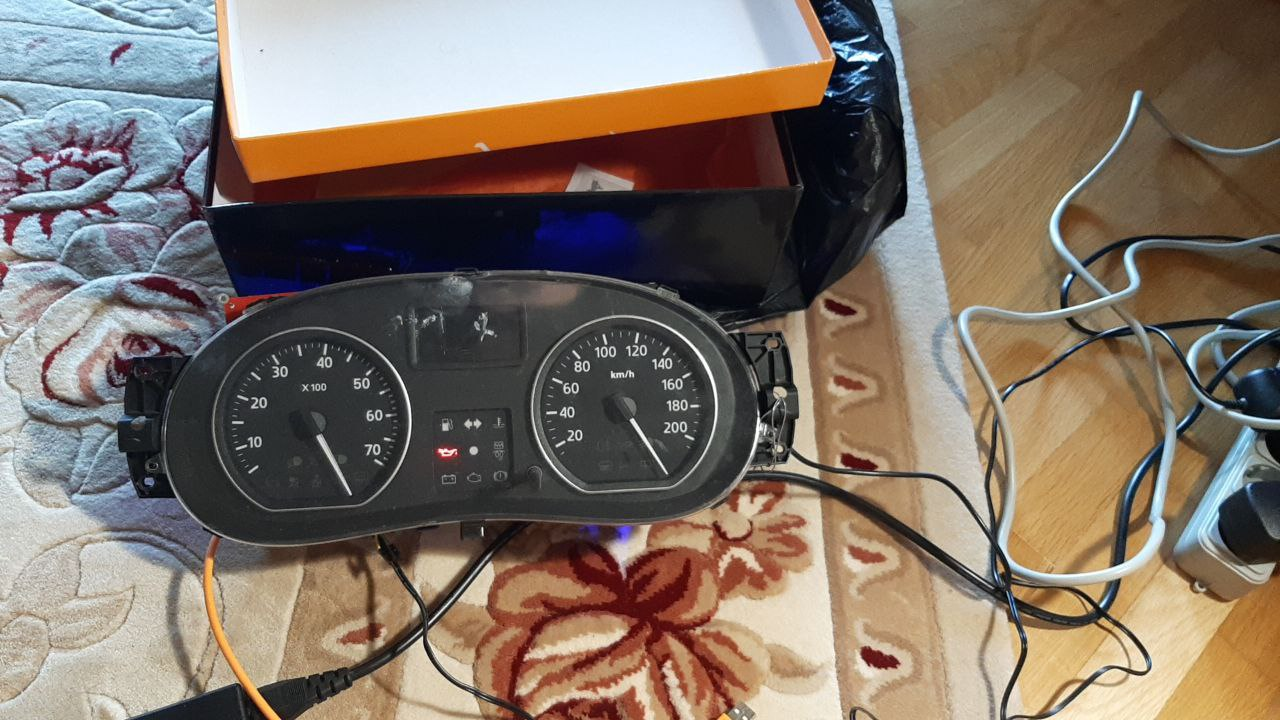oil: (437, 446, 461, 460)
